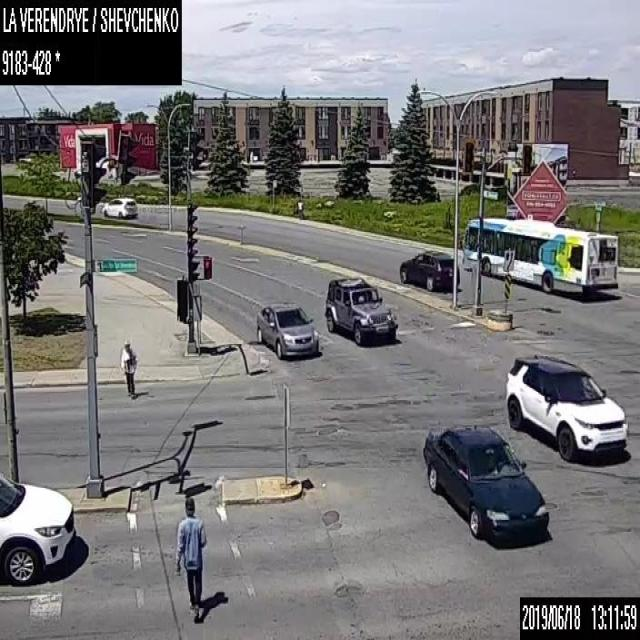bus: (461, 215, 618, 297)
pedestrian: (173, 498, 207, 622), (120, 340, 137, 395), (296, 196, 303, 216)
vehicle: (423, 421, 549, 539), (505, 355, 628, 461), (0, 469, 75, 587), (324, 276, 396, 344), (255, 300, 319, 360), (398, 248, 459, 292), (101, 196, 138, 217)
